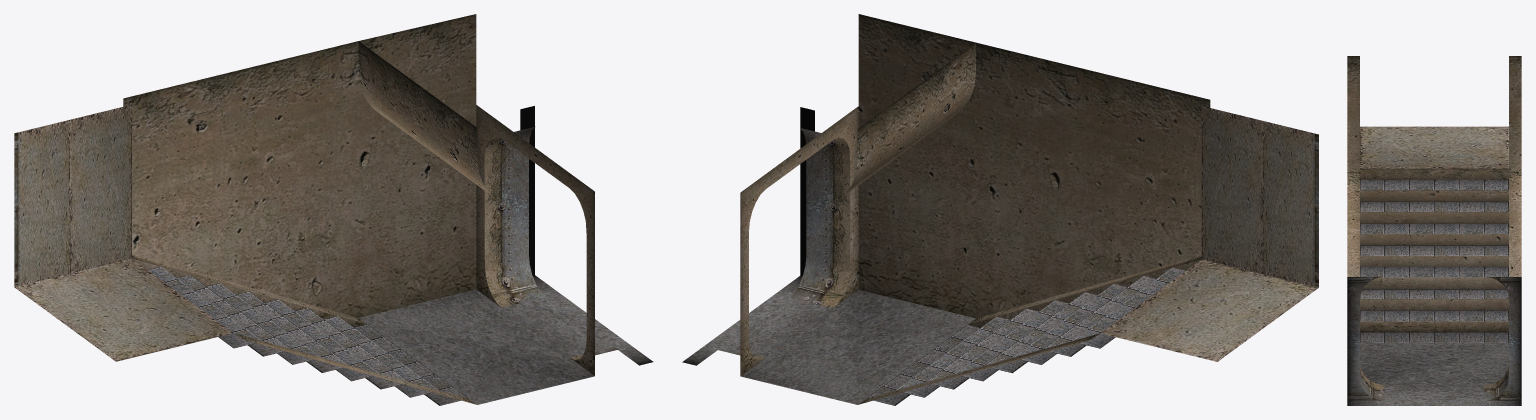
File: M11Z2_ShelterInt.glb
3 views of the same model, side by side, from view 1: azimuth 30°, elevation 25°; view 2: azimuth 150°, elevation 25°; view 3: azimuth 270°, elevation 25° (orthographic). The views are drawn at different scales.
Parts seen in each view (by area): view 1: M11Z2_SHELTERINT; view 2: M11Z2_SHELTERINT; view 3: M11Z2_SHELTERINT.
Part boxes in pixels (left/top/right/bottom): M11Z2_SHELTERINT: left=14, top=14, right=653, bottom=405; M11Z2_SHELTERINT: left=682, top=14, right=1318, bottom=405; M11Z2_SHELTERINT: left=1347, top=56, right=1521, bottom=405.
Size of the model in its own units: 9 by 4.5 by 3.5.
Materials: 6 (6 with a texture image).
